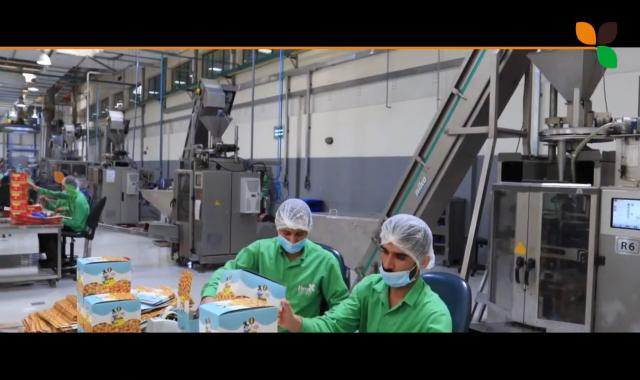hairnet: (379, 213, 433, 274), (274, 199, 311, 248), (62, 174, 78, 194)
